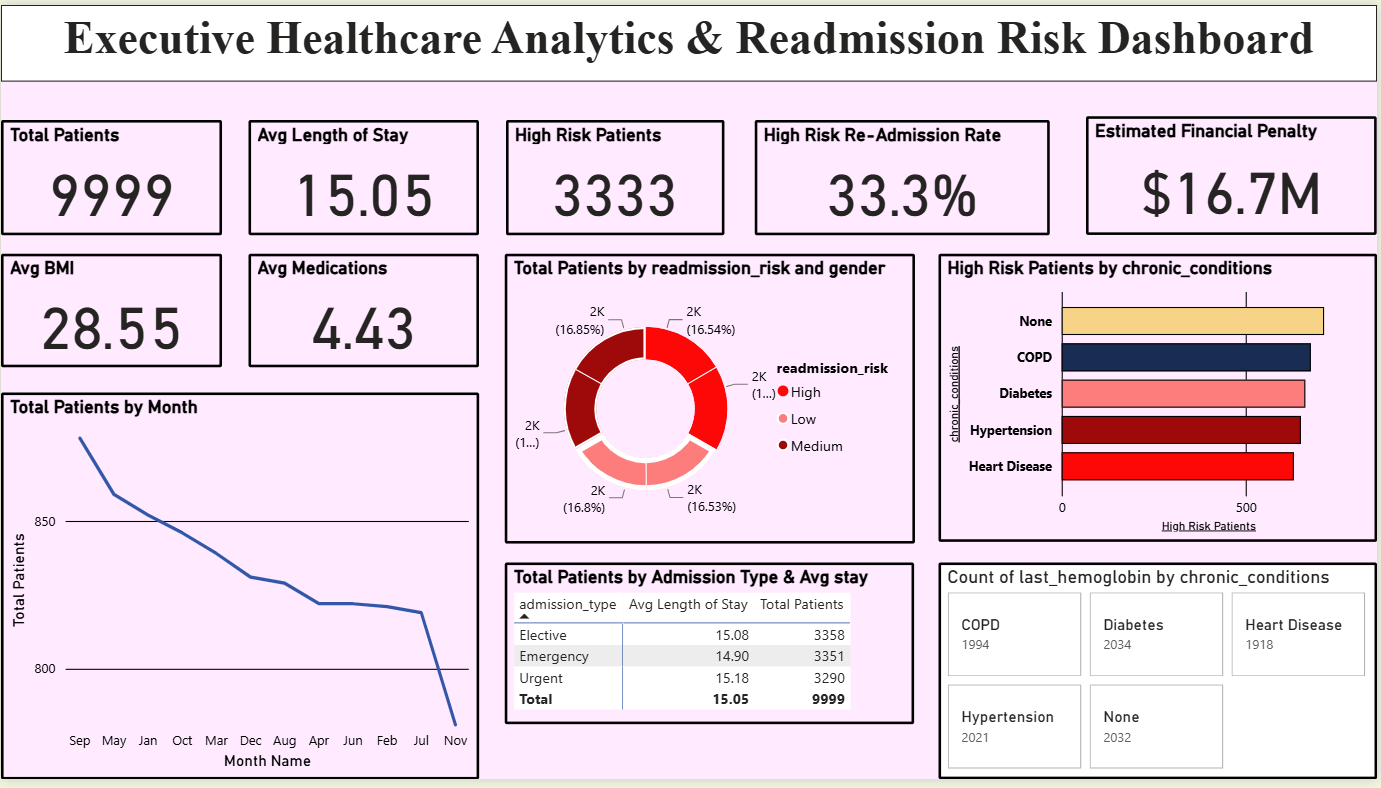

What the dashboard file says about the page in this screenshot:
{"tool":"powerbi","page":{"name":"Overview","canvas":[1280,720],"ordinal":0},"visuals":[{"type":"card","title":"Total Patients","fields":{"Values":["Table.Total Patients"]},"box":[0,107.1,205.8,107.1],"z":0},{"type":"card","title":"Avg Length of Stay","fields":{"Values":["Table.Avg Length of Stay"]},"box":[229.8,107.1,214.2,107.1],"z":1000},{"type":"card","title":"High Risk Patients","fields":{"Values":["Table.High Risk Patients"]},"box":[469.3,107.1,203.3,107.1],"z":2000},{"type":"card","title":"High Risk Re-Admission Rate","fields":{"Values":["Table.High Risk Readmission Rate %"]},"box":[701.5,107.1,274.3,107.1],"z":3000},{"type":"card","title":"Estimated Financial Penalty","fields":{"Values":["Table.Estimated Financial Penalty"]},"box":[1009.5,103.5,270.7,110.7],"z":4000},{"type":"card","title":"Avg BMI","fields":{"Values":["Table.Avg BMI"]},"box":[0,231,205.8,105.9],"z":5000},{"type":"card","title":"Avg Medications","fields":{"Values":["Table.Avg Medications"]},"box":[229.8,231,214.2,105.9],"z":6000},{"type":"textbox","box":[0,0,1280.2,71],"z":7000},{"type":"lineChart","title":"Total Patients by Month ","fields":{"Category":["Dim_Calendar.Month Name"],"Y":["Table.Total Patients"]},"box":[0,360,444.6,360],"z":7001},{"type":"donutChart","fields":{"Category":["hospital_readmission_risk_10000.readmission_risk"],"Series":["hospital_readmission_risk_10000.gender"],"Y":["Table.Total Patients"]},"box":[468.5,231.3,381.4,269.4],"z":7002},{"type":"clusteredBarChart","fields":{"Category":["hospital_readmission_risk_10000.chronic_conditions"],"Y":["Table.High Risk Patients"]},"box":[872.6,231.3,407.7,268.2],"z":7003},{"type":"pivotTable","title":"Total Patients by Admission Type & Avg stay","fields":{"Rows":["hospital_readmission_risk_10000.admission_type"],"Values":["Table.Avg Length of Stay","Table.Total Patients"]},"box":[468.1,518.7,380.7,150.3],"z":7004},{"type":"advancedSlicerVisual","fields":{"Label":["CountNonNull(hospital_readmission_risk_10000.last_hemoglobin)"],"Values":["hospital_readmission_risk_10000.chronic_conditions"]},"box":[872.6,518.5,407.7,201.5],"z":7005}]}

Visuals, with their boxes in screenshot pixels (x1, y1, x2, y2), scaled from the page's 1280x720 canvas onto the 1381x788 screenshot:
"Total Patients" card: box=[0, 117, 222, 234]
"Avg Length of Stay" card: box=[248, 117, 479, 234]
"High Risk Patients" card: box=[506, 117, 726, 234]
"High Risk Re-Admission Rate" card: box=[757, 117, 1053, 234]
"Estimated Financial Penalty" card: box=[1089, 113, 1380, 234]
"Avg BMI" card: box=[0, 253, 222, 369]
"Avg Medications" card: box=[248, 253, 479, 369]
textbox: box=[0, 0, 1380, 78]
"Total Patients by Month " lineChart: box=[0, 394, 480, 787]
donutChart - hospital_readmission_risk_10000.readmission_risk x hospital_readmission_risk_10000.gender: box=[505, 253, 917, 548]
clusteredBarChart - hospital_readmission_risk_10000.chronic_conditions x Table.High Risk Patients: box=[941, 253, 1380, 547]
"Total Patients by Admission Type & Avg stay" pivotTable: box=[505, 568, 916, 732]
advancedSlicerVisual - CountNonNull(hospital_readmission_risk_10000.last_hemoglobin) x hospital_readmission_risk_10000.chronic_conditions: box=[941, 567, 1380, 787]
